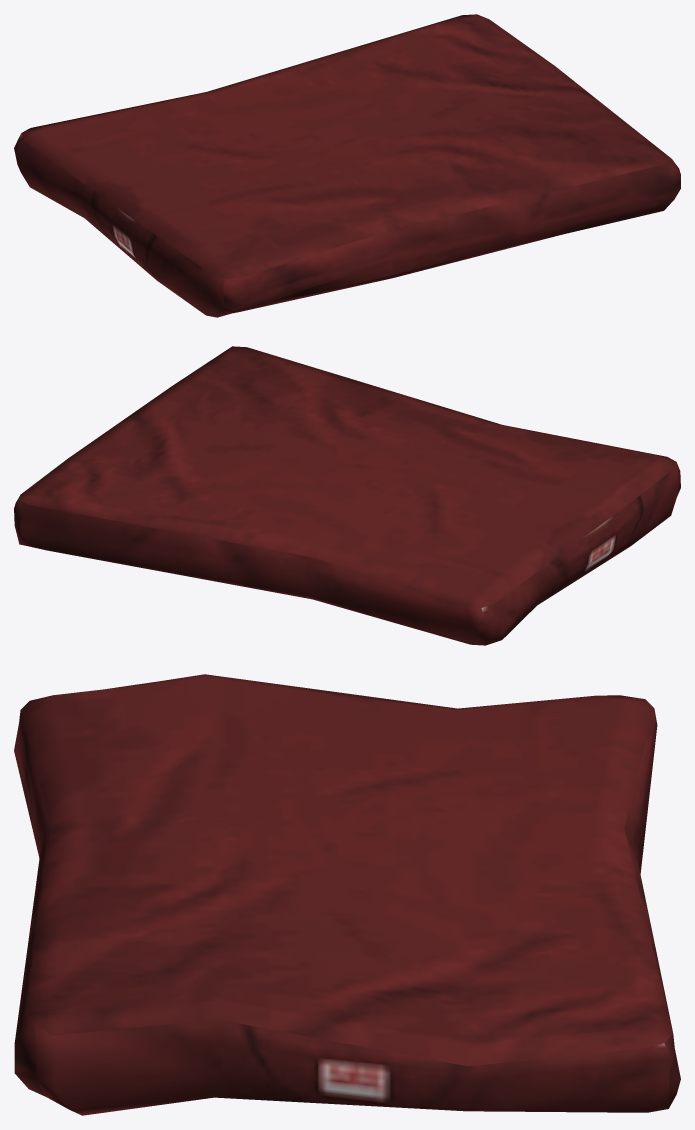
File: shirtRedFolded.fbx
3 views of the same model, one above another, from view 1: azimuth 30°, elevation 25°; view 2: azimuth 150°, elevation 25°; view 3: azimuth 270°, elevation 25° (orthographic). The views are drawn at different scales.
Parts seen in each view (by area): view 1: shirtRedFolded; view 2: shirtRedFolded; view 3: shirtRedFolded.
Part boxes in pixels (x1,y1,x2,y2): shirtRedFolded: [14, 14, 680, 317]; shirtRedFolded: [14, 346, 680, 645]; shirtRedFolded: [14, 674, 680, 1115].
Bounding box in the file's own units: 1.07 × 0.1375 × 0.8084.
1 material, 1 textured.
